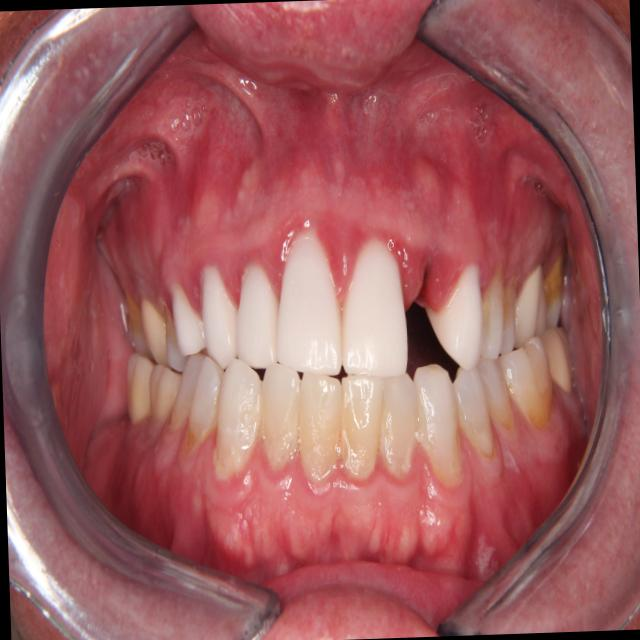tooth: (265, 217, 351, 385), (335, 223, 415, 386), (417, 242, 490, 378), (205, 345, 269, 487), (405, 356, 469, 495), (225, 248, 286, 391), (291, 356, 350, 494), (490, 322, 559, 439), (251, 347, 306, 481), (334, 361, 390, 488), (191, 261, 247, 376), (375, 365, 426, 486), (472, 336, 520, 448), (451, 354, 498, 464), (178, 355, 230, 453), (507, 248, 552, 351), (528, 314, 581, 401), (162, 272, 211, 365), (165, 344, 213, 437), (471, 255, 509, 371), (114, 343, 162, 431), (114, 280, 159, 367), (145, 354, 190, 432), (134, 288, 174, 373), (538, 238, 572, 337), (494, 263, 523, 364), (155, 298, 190, 379)
